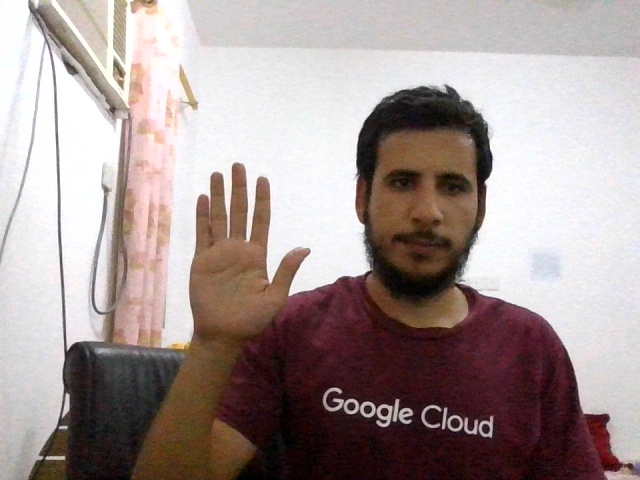Five: (189, 162, 310, 336)
